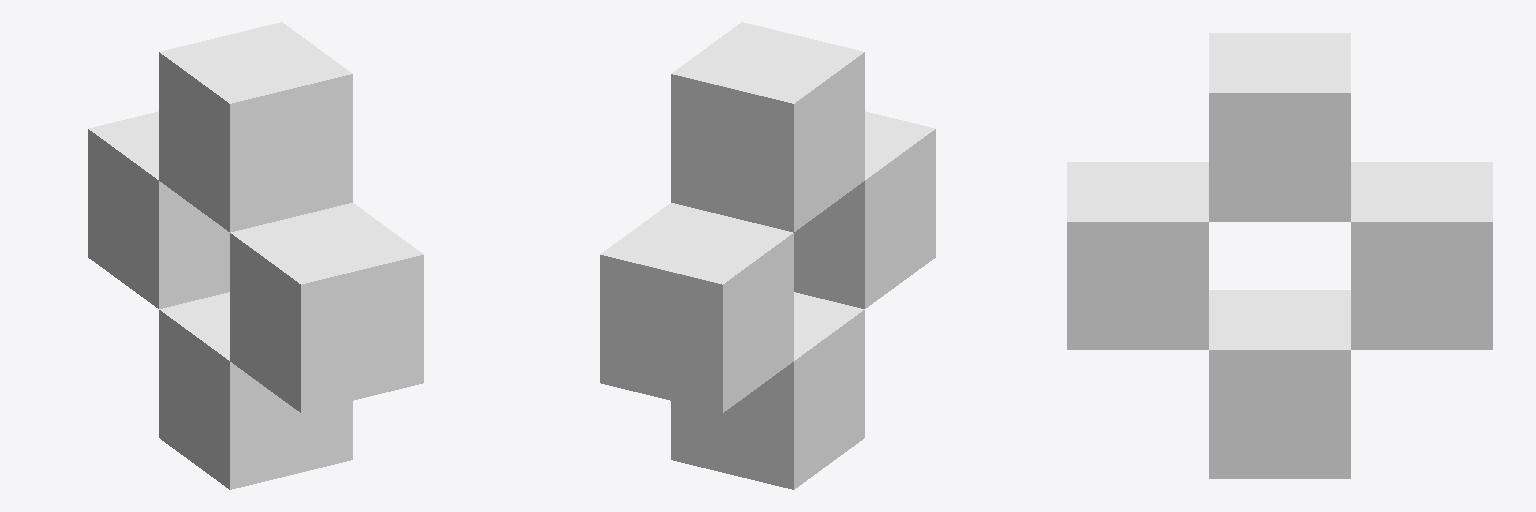
Rendered from star_valla_2.obj.
3 renders of one model, left to right at view 1: azimuth 30°, elevation 25°; view 2: azimuth 150°, elevation 25°; view 3: azimuth 270°, elevation 25°, orthographic.
Size of the model in its own units: 1 by 3 by 3.